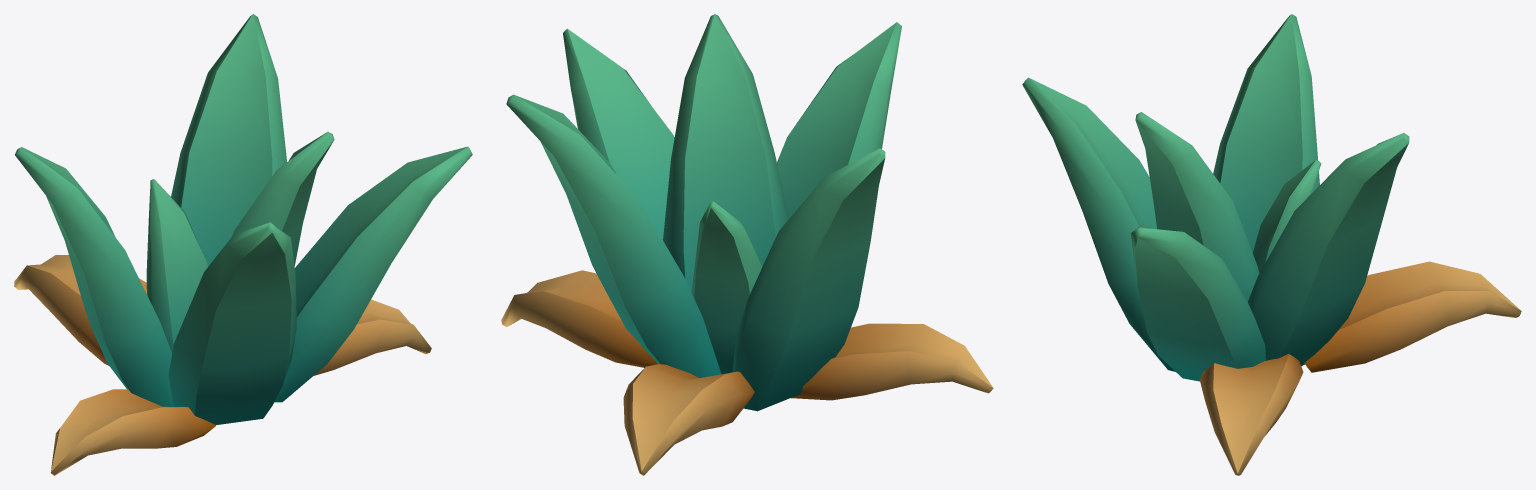
Rendered from Plant1.glb.
3 views of the same model, side by side, from view 1: azimuth 30°, elevation 25°; view 2: azimuth 150°, elevation 25°; view 3: azimuth 270°, elevation 25° (orthographic). The views are drawn at different scales.
Visible parts, largest first — view 1: Plant1; view 2: Plant1; view 3: Plant1.
Boxes of the visible parts, left/top/right/bottom form: Plant1: left=14, top=14, right=472, bottom=475; Plant1: left=501, top=14, right=993, bottom=475; Plant1: left=1022, top=14, right=1521, bottom=475.
Size of the model in its own units: 0.9316 by 0.6424 by 0.9602.
